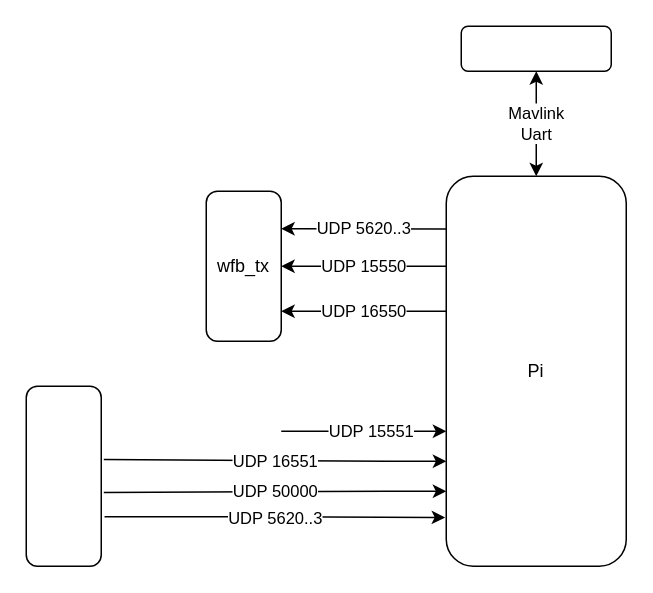
Some shapes in this 653 by 593 pixel diagram are drawn without their labels. Each missing label, with the centre of its shape:
"FC" belongs at [535,48].
"wfb_rx" belongs at [63,475].
